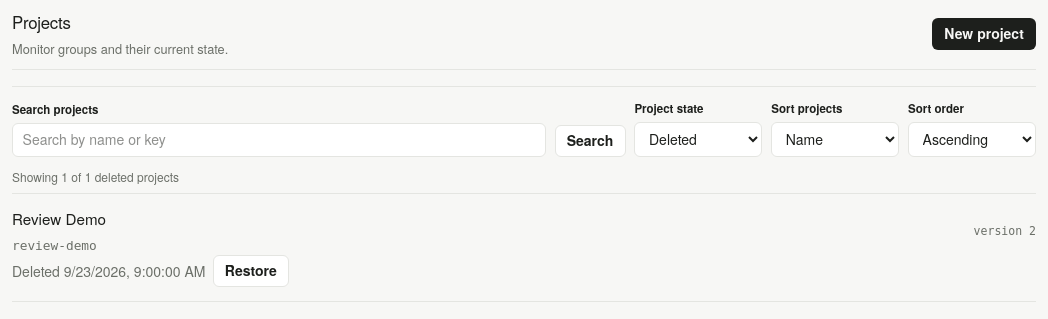
Scenario: keeps deleted projects distinct and restores them
What coordinates should you click on to do the following:
click the button "Restore"
I would click on:
 (251, 271)
Its box is [213,255,289,287].
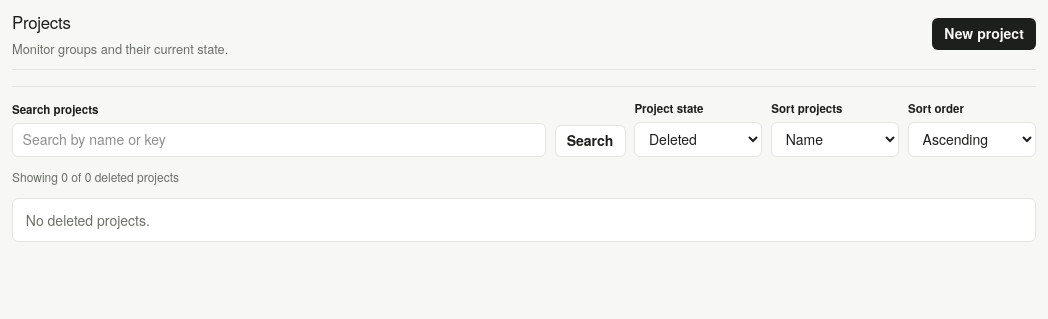
Check: the text "No deleted projects." is shown, box [12,198,1036,242]
